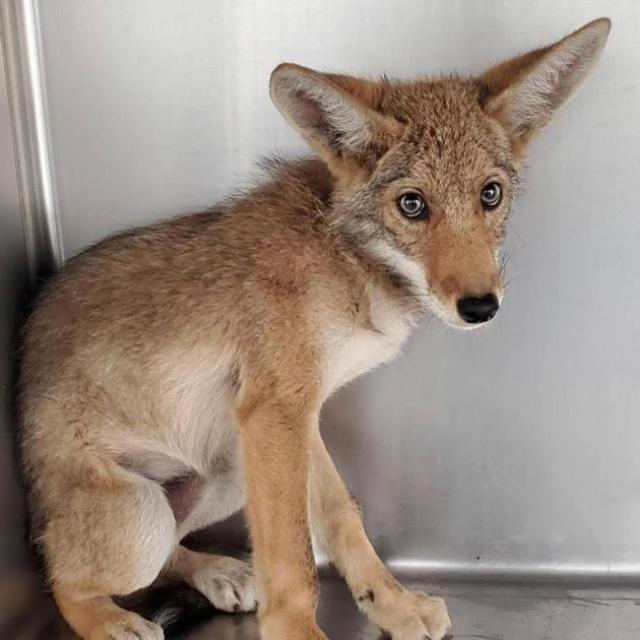Coyote: (8, 16, 607, 633)
